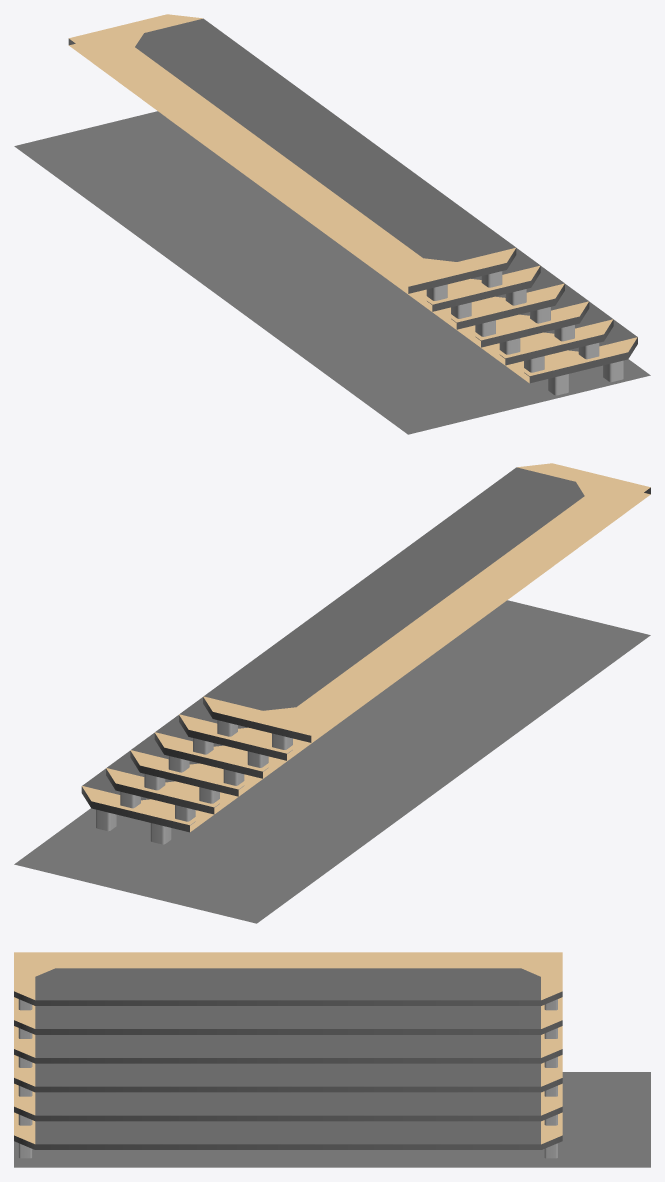
File: stairs.fbx
The picture shows the model from 3 angles, top to bottom: view 1: azimuth 30°, elevation 25°; view 2: azimuth 150°, elevation 25°; view 3: azimuth 270°, elevation 25°; orthographic projection. The views are drawn at different scales.
Parts seen in each view (by area): view 1: stairs; view 2: stairs; view 3: stairs.
Boxes of the visible parts, x1,y1,x2,y2 form: stairs: [14, 14, 650, 434]; stairs: [14, 463, 650, 923]; stairs: [14, 952, 650, 1167].
Size of the model in its own units: 107 by 62.1 by 300.
